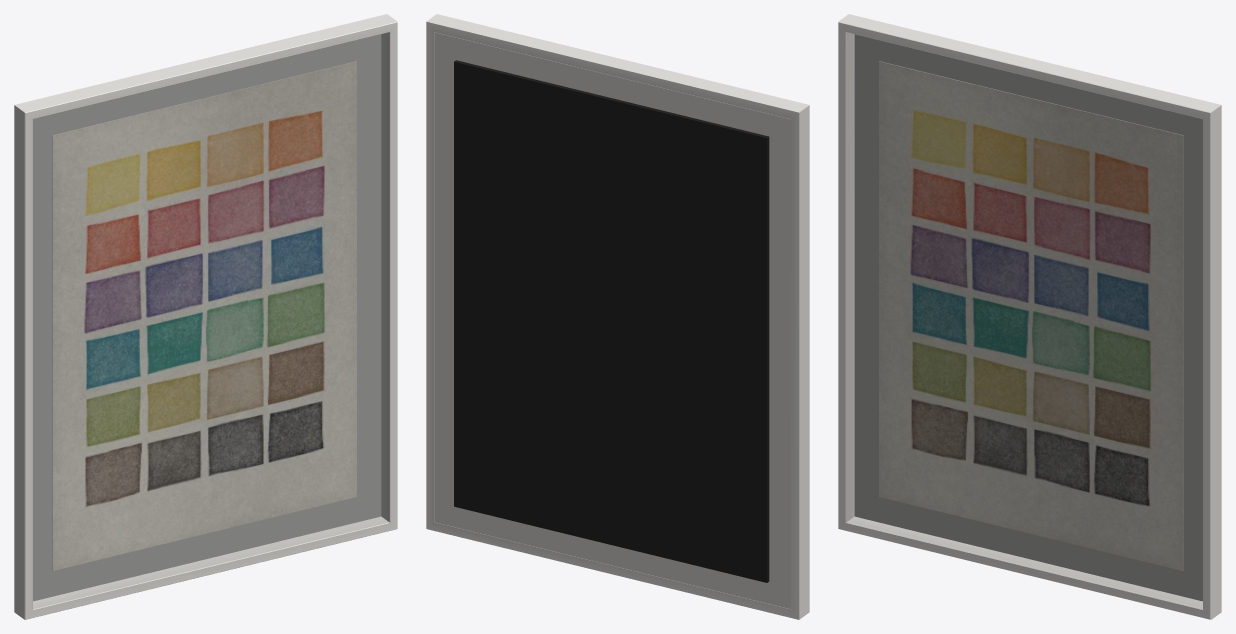
File: art_colour_chart.gltf
The picture shows the model from 3 angles, left to right: view 1: azimuth 30°, elevation 25°; view 2: azimuth 150°, elevation 25°; view 3: azimuth 330°, elevation 25°; orthographic projection.
Visible parts, largest first — view 1: Art_ColourChart_Art, Art_ColourChart_Backing, Art_ColourChart_Frame; view 2: Art_ColourChart_Spacer, Art_ColourChart_Backing, Art_ColourChart_Frame; view 3: Art_ColourChart_Art, Art_ColourChart_Backing, Art_ColourChart_Frame.
Boxes of the visible parts, x1,y1,x2,y2 form: Art_ColourChart_Art: [52, 61, 356, 570]; Art_ColourChart_Backing: [33, 34, 381, 601]; Art_ColourChart_Frame: [14, 14, 397, 619]; Art_ColourChart_Spacer: [454, 60, 769, 582]; Art_ColourChart_Backing: [434, 32, 790, 608]; Art_ColourChart_Frame: [426, 14, 809, 619]; Art_ColourChart_Art: [879, 61, 1183, 570]; Art_ColourChart_Backing: [854, 34, 1202, 601]; Art_ColourChart_Frame: [838, 14, 1221, 619].
Size of the model in its own units: 1 by 1.3 by 0.06.
Materials: 4 (1 with a texture image).
